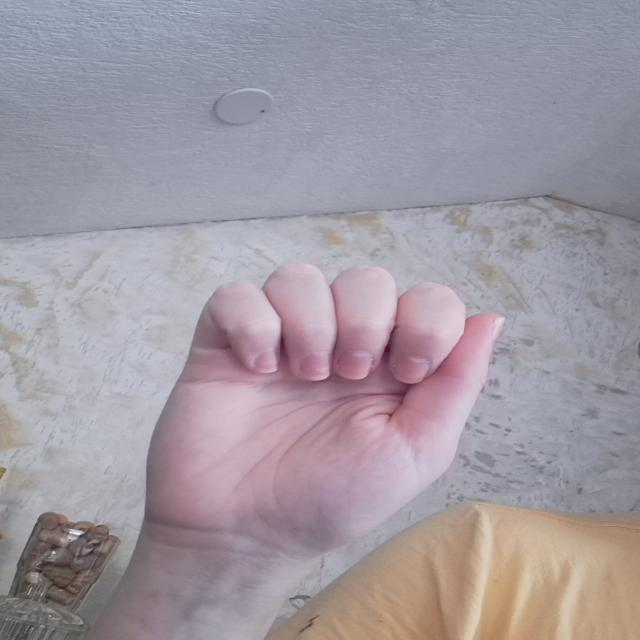A: (147, 253, 518, 533)
